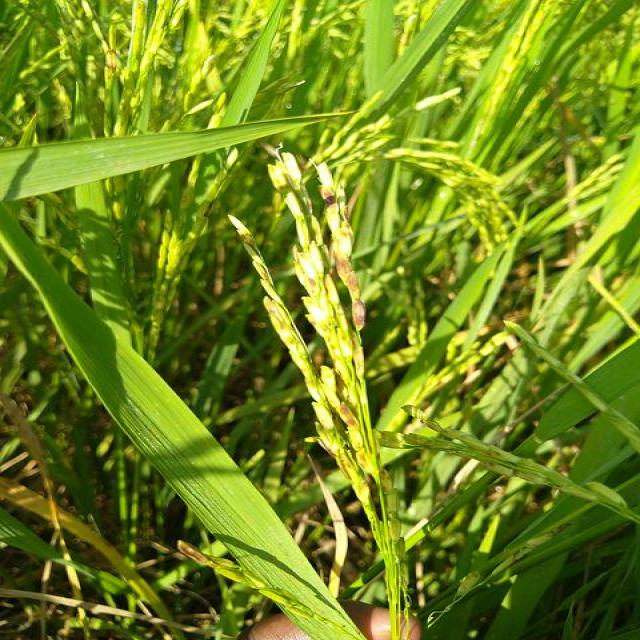Panicle Blight: (381, 405, 597, 501), (228, 215, 307, 362), (316, 163, 367, 331), (313, 402, 373, 505), (297, 273, 321, 299), (339, 406, 357, 432), (311, 318, 320, 331)
